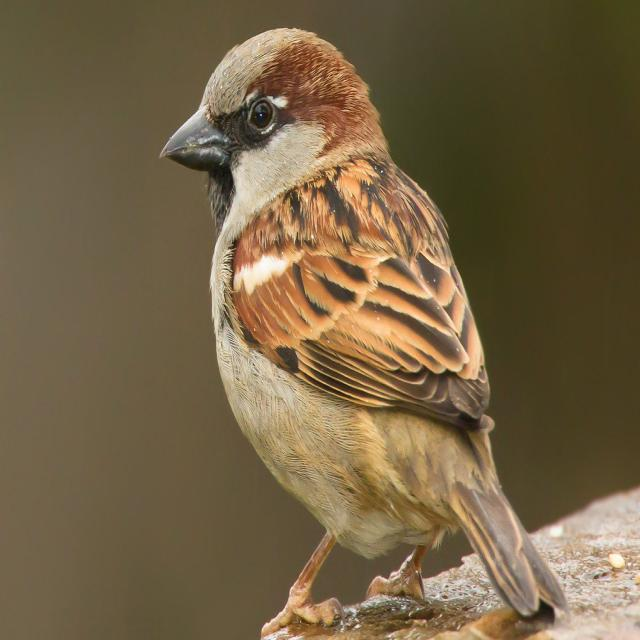Sparrow: (156, 17, 566, 630)
